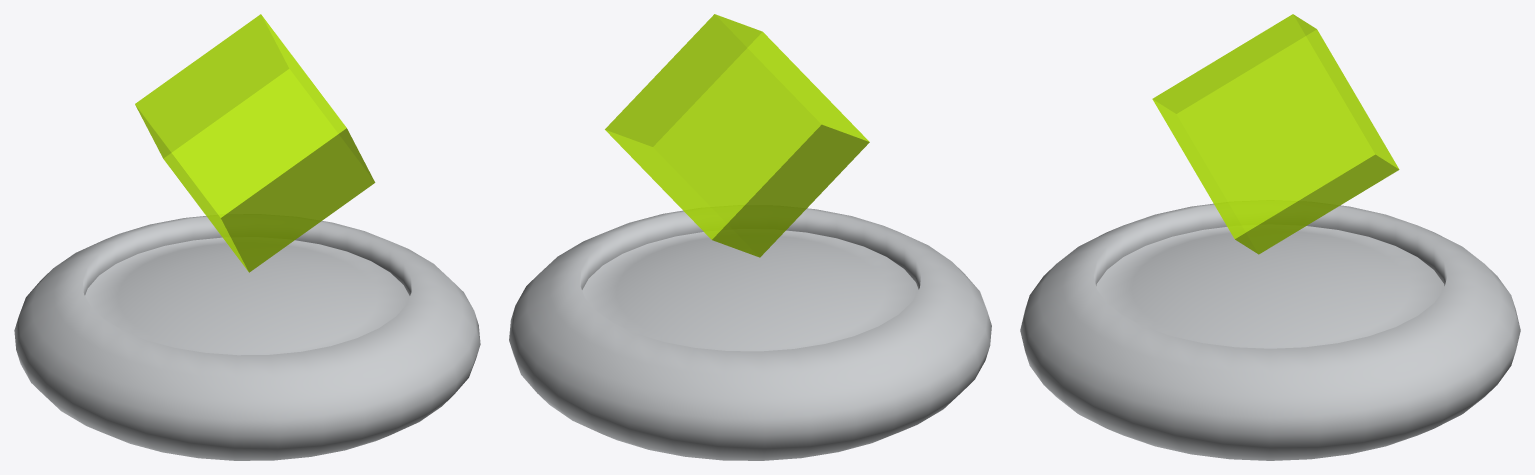
The model's file is goal.fbx.
3 renders of one model, left to right at view 1: azimuth 30°, elevation 25°; view 2: azimuth 150°, elevation 25°; view 3: azimuth 270°, elevation 25°, orthographic. The views are drawn at different scales.
Parts seen in each view (by area): view 1: stand, goalCube; view 2: stand, goalCube; view 3: stand, goalCube.
Part boxes in pixels (box(x1,y1,x2,y2)): stand: box(14, 216, 480, 460); goalCube: box(135, 14, 375, 272); stand: box(509, 208, 991, 460); goalCube: box(605, 14, 869, 257); stand: box(1020, 203, 1520, 460); goalCube: box(1152, 14, 1399, 254).
Size of the model in its own units: 238 by 217 by 241.
